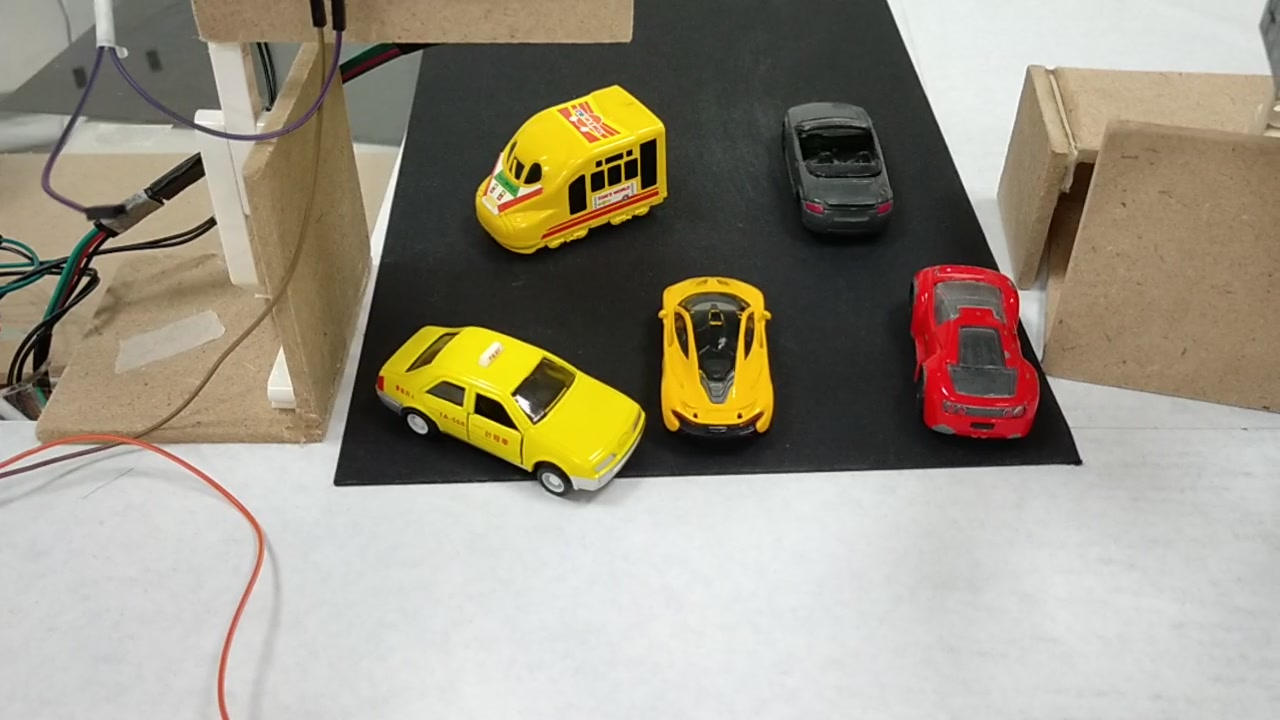car: (366, 317, 643, 497), (911, 263, 1041, 444), (656, 275, 771, 434), (778, 97, 894, 237)
